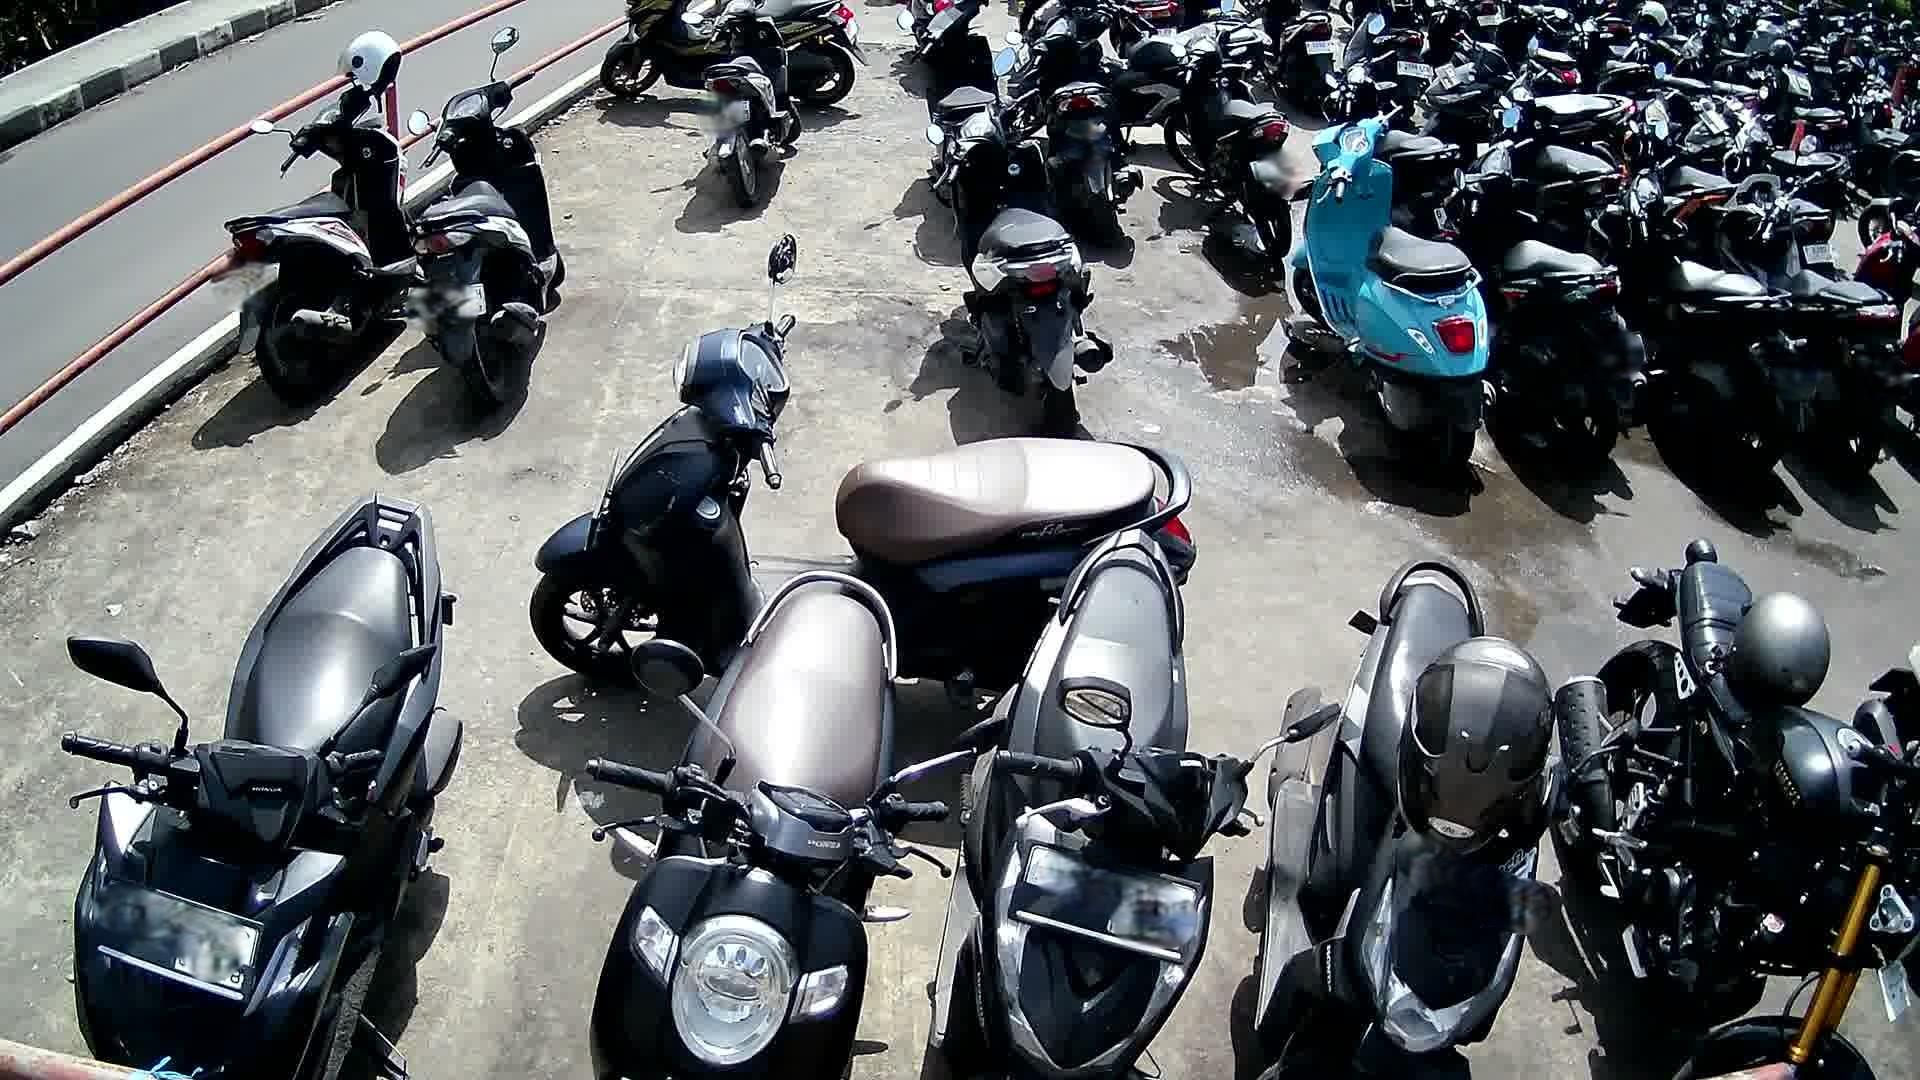motorcycle: (532, 232, 1195, 685), (66, 494, 470, 1080), (924, 527, 1344, 1080), (580, 569, 1013, 1080), (1254, 557, 1640, 1080), (1558, 534, 1920, 1079), (1292, 93, 1500, 473), (1441, 133, 1662, 475), (1708, 135, 1920, 480), (1576, 167, 1812, 476), (926, 45, 1115, 425), (410, 25, 570, 419), (221, 84, 416, 405)
